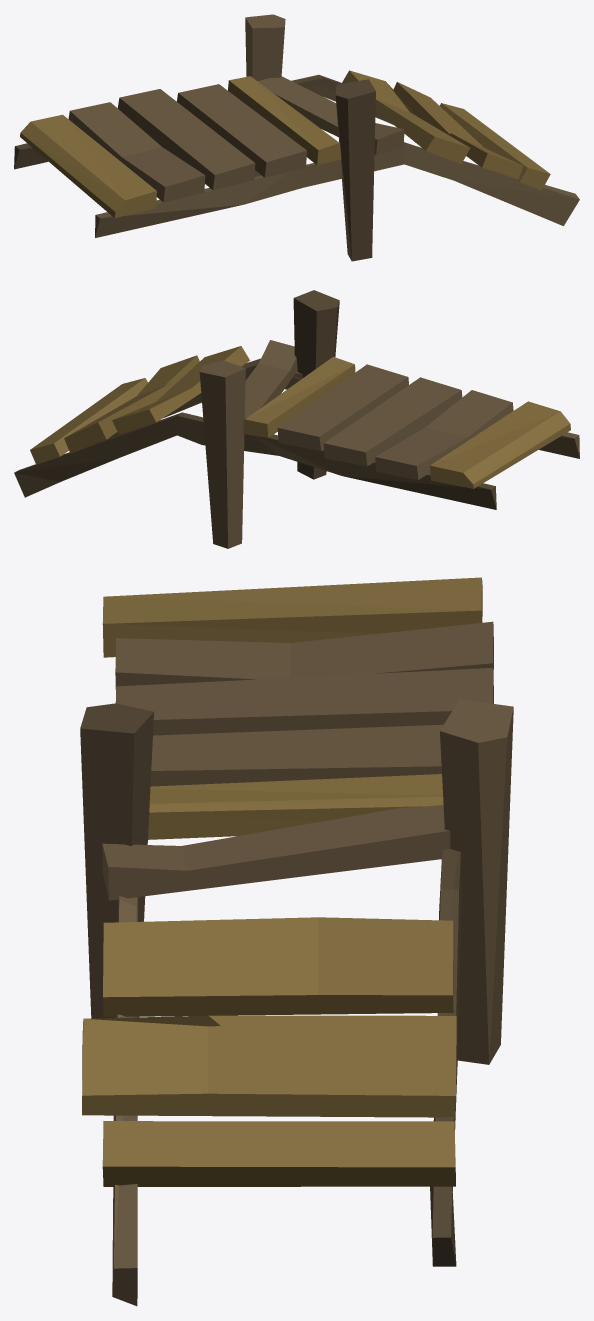
File: EA03_Prop_Pier_03d.glb
The picture shows the model from 3 angles, top to bottom: view 1: azimuth 30°, elevation 25°; view 2: azimuth 150°, elevation 25°; view 3: azimuth 270°, elevation 25°; orthographic projection. The views are drawn at different scales.
Parts seen in each view (by area): view 1: EA03_Prop_Pier_03d; view 2: EA03_Prop_Pier_03d; view 3: EA03_Prop_Pier_03d.
Part boxes in pixels (bbox=[...]): EA03_Prop_Pier_03d: bbox=[14, 14, 579, 261]; EA03_Prop_Pier_03d: bbox=[14, 290, 579, 548]; EA03_Prop_Pier_03d: bbox=[80, 577, 513, 1306].
Size of the model in its own units: 6.6 by 2.5 by 2.56.
1 material, 1 textured.
